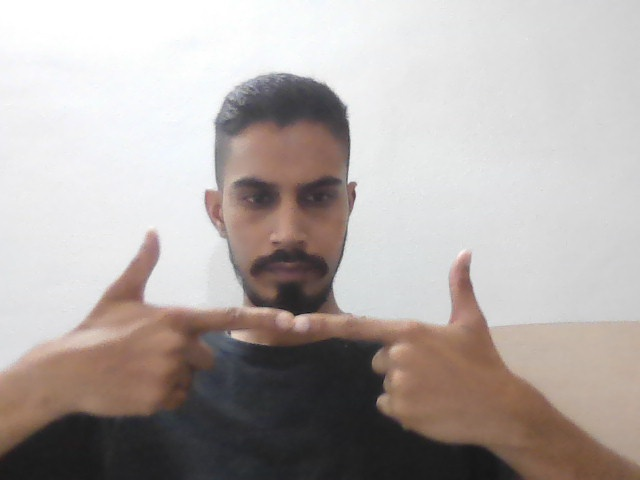Hurt: (57, 224, 510, 449)
